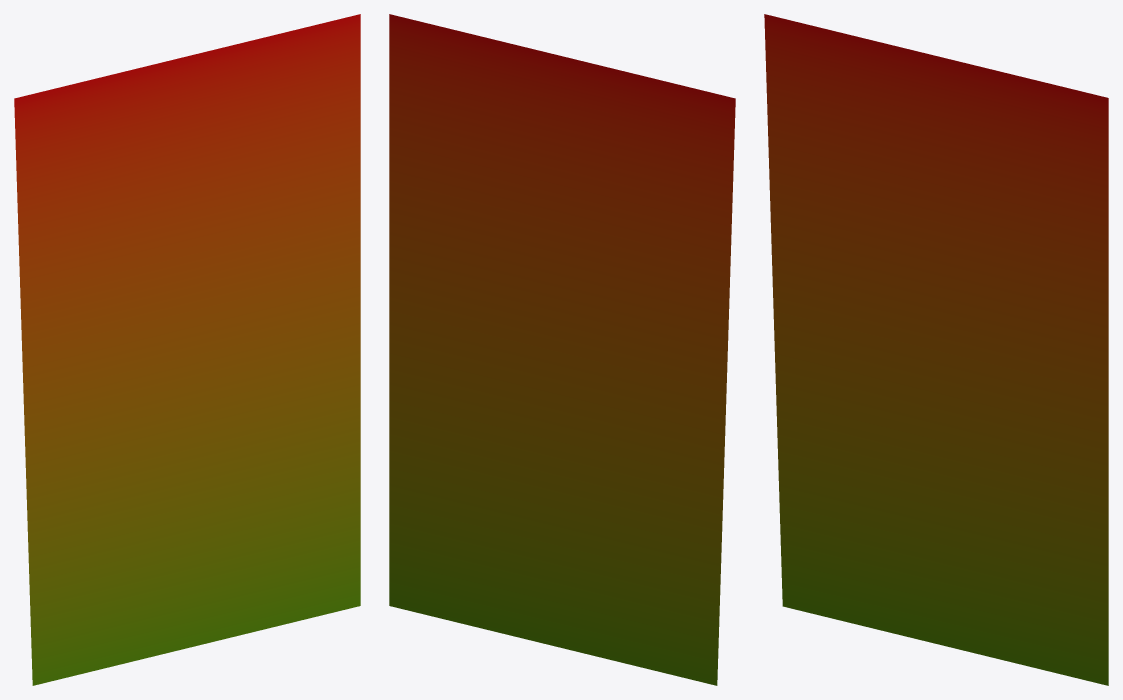
The model's file is Var1_LOD3.fbx.
The picture shows the model from 3 angles, left to right: view 1: azimuth 30°, elevation 25°; view 2: azimuth 150°, elevation 25°; view 3: azimuth 330°, elevation 25°; orthographic projection.
Visible parts, largest first — view 1: _a901_Var1_LOD3; view 2: _a901_Var1_LOD3; view 3: _a901_Var1_LOD3.
Boxes of the visible parts, x1,y1,x2,y2 form: _a901_Var1_LOD3: [14, 14, 360, 685]; _a901_Var1_LOD3: [389, 14, 735, 685]; _a901_Var1_LOD3: [764, 14, 1108, 685].
Size of the model in its own units: 42.37 by 69.16 by 1.2e-05.
